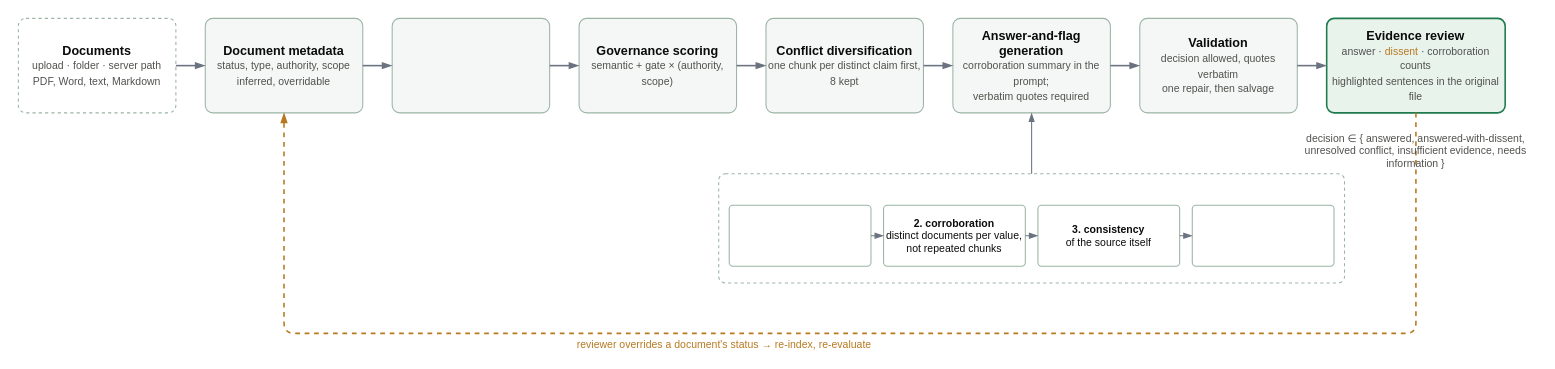
The diagram is 1555 pixels wide and 369 high, and some of its shapes have lost their labels. Here are the shapes that lost their labels. From the top down, the box of each, then its label:
(391, 17, 550, 113): Hybrid retrieval BM25 + dense, reciprocal rank fusion top-30 chunks
(728, 204, 871, 266): 1. governance active authoritative source wins
(718, 173, 1345, 283): resolution order, fixed and stated to the model
(1191, 204, 1334, 266): 4. tie declared; both values shown
